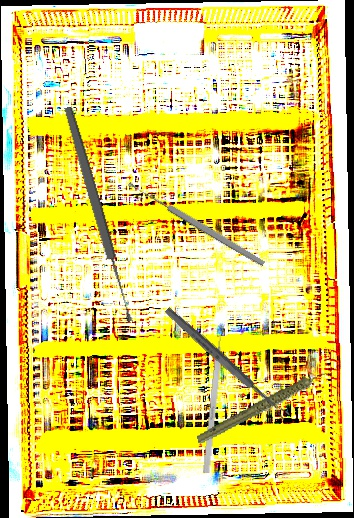Handpiece: (189, 369, 341, 446)
Hook Surgical: (202, 323, 226, 474)
Surgical Spoon: (61, 105, 136, 324), (162, 305, 291, 422), (126, 179, 267, 268)
